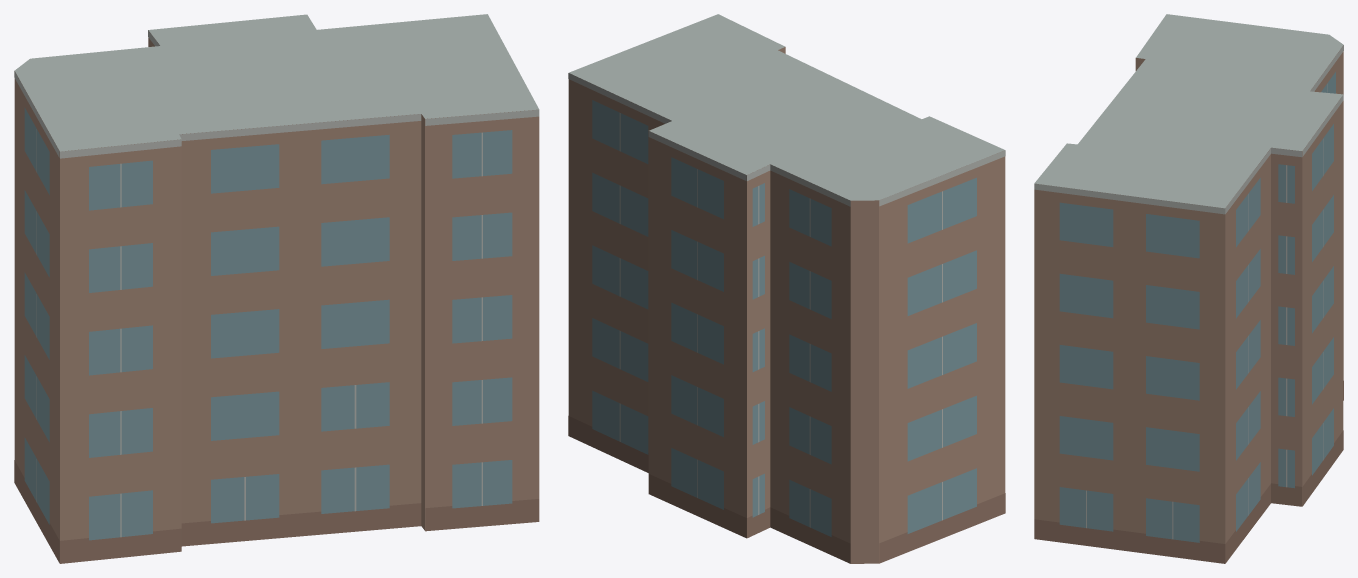
File: survey-upis-32871903.glb
The picture shows the model from 3 angles, left to right: view 1: azimuth 30°, elevation 25°; view 2: azimuth 150°, elevation 25°; view 3: azimuth 270°, elevation 25°; orthographic projection. The views are drawn at different scales.
Visible parts, largest first — view 1: survey-upis-32871903.tmp; view 2: survey-upis-32871903.tmp; view 3: survey-upis-32871903.tmp.
Part boxes in pixels (x1,y1,x2,y2): survey-upis-32871903.tmp: [14, 14, 539, 563]; survey-upis-32871903.tmp: [568, 14, 1005, 563]; survey-upis-32871903.tmp: [1034, 14, 1343, 563].
Bounding box in the file's own units: 16.78 × 14.3 × 11.3.
